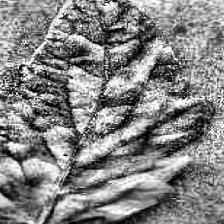leaf mold: (0, 0, 214, 224)
